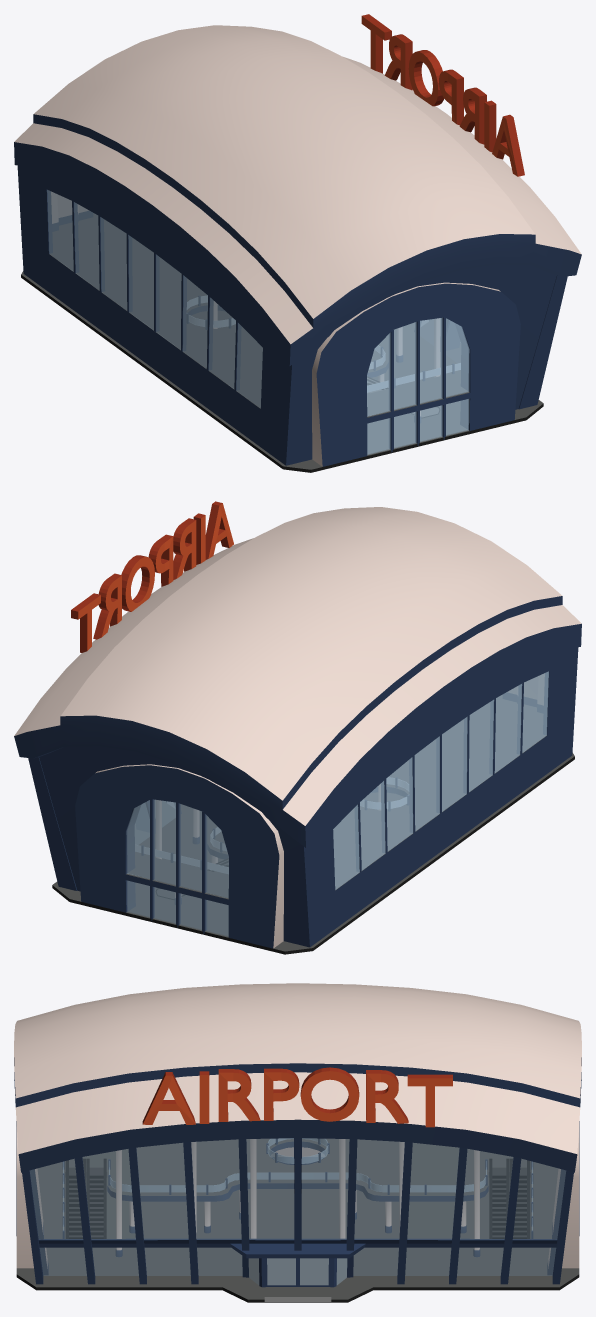
Rendered from airport-terminal-module-1.glb.
3 renders of one model, top to bottom at view 1: azimuth 30°, elevation 25°; view 2: azimuth 150°, elevation 25°; view 3: azimuth 270°, elevation 25°, orthographic.
Parts seen in each view (by area): view 1: 07.Modulo1_AIRPORT_0; view 2: 07.Modulo1_AIRPORT_0; view 3: 07.Modulo1_AIRPORT_0.
Boxes of the visible parts, bbox=[...] form: 07.Modulo1_AIRPORT_0: bbox=[14, 14, 581, 472]; 07.Modulo1_AIRPORT_0: bbox=[14, 501, 581, 954]; 07.Modulo1_AIRPORT_0: bbox=[14, 983, 581, 1302].
Size of the model in its own units: 42.2 by 32.42 by 70.62.
Materials: 1 (1 with a texture image).
